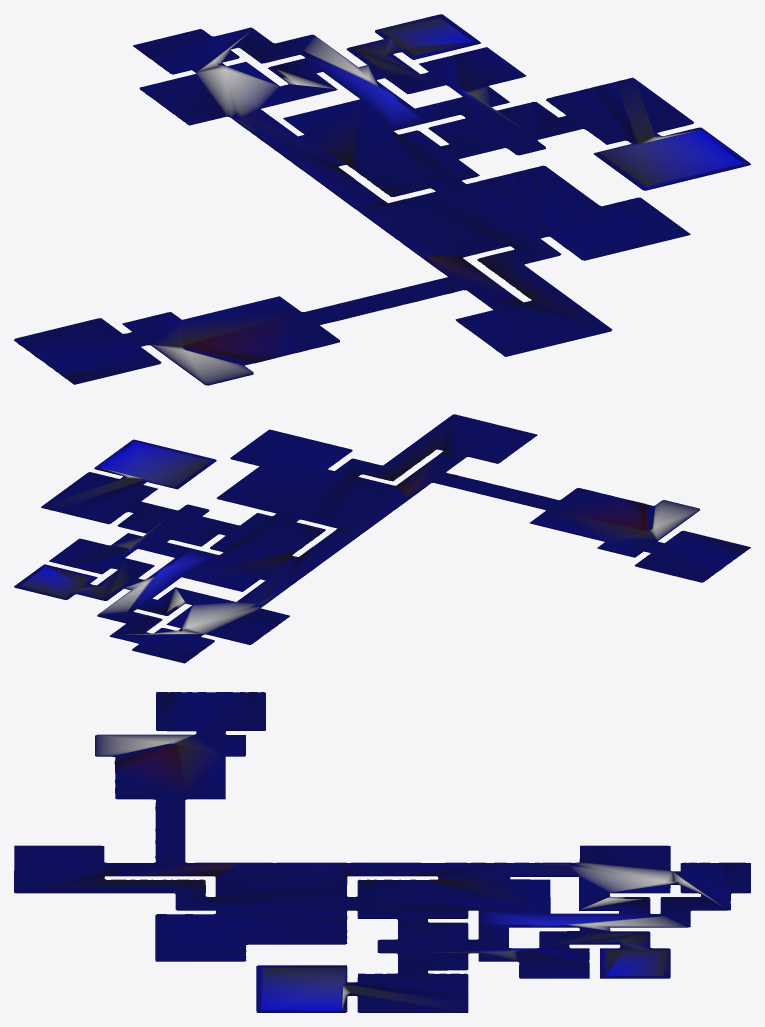
The model's file is level floor.fbx.
3 views of the same model, one above another, from view 1: azimuth 30°, elevation 25°; view 2: azimuth 150°, elevation 25°; view 3: azimuth 270°, elevation 25° (orthographic). The views are drawn at different scales.
Visible parts, largest first — view 1: quickmaterial2; view 2: quickmaterial2; view 3: quickmaterial2.
Boxes of the visible parts, bbox=[...] form: quickmaterial2: bbox=[14, 14, 750, 385]; quickmaterial2: bbox=[14, 414, 750, 663]; quickmaterial2: bbox=[14, 692, 750, 1012].
Bounding box in the file's own units: 962 × 2 × 935.
